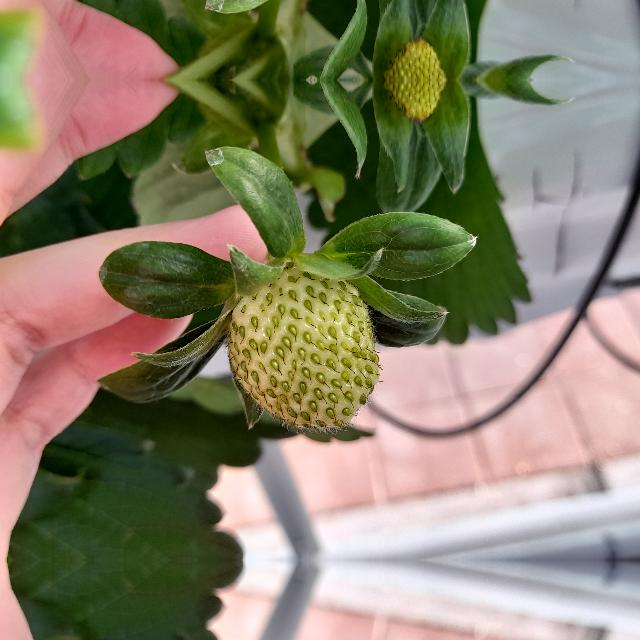Health_25: (226, 264, 378, 428)
